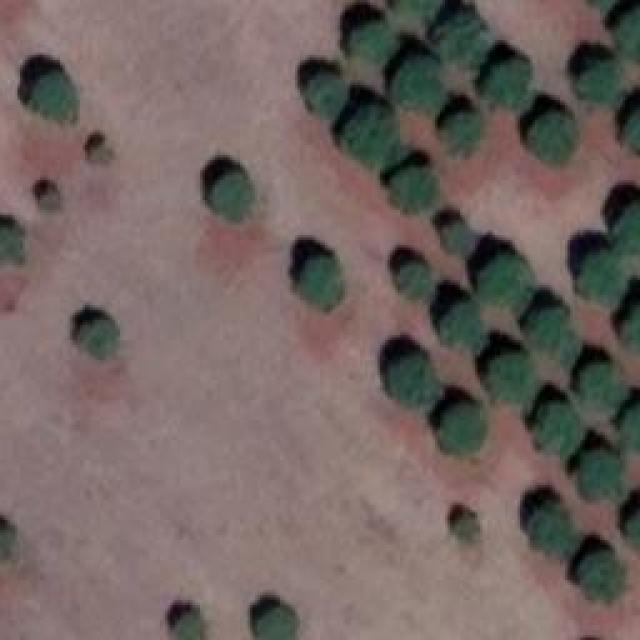Tree: (343, 98, 398, 161), (385, 353, 438, 413), (530, 105, 578, 170), (393, 50, 438, 110), (523, 498, 568, 558), (430, 5, 480, 58), (390, 158, 438, 213), (575, 550, 623, 605), (298, 252, 343, 310), (482, 250, 530, 303), (437, 400, 485, 453), (487, 345, 535, 398), (483, 55, 533, 105), (30, 65, 75, 118), (345, 12, 393, 60), (578, 253, 623, 303), (438, 300, 483, 348), (525, 302, 570, 350), (210, 170, 253, 218), (538, 405, 581, 453), (580, 448, 618, 501), (583, 363, 623, 406), (302, 68, 340, 113), (582, 58, 620, 103), (258, 602, 301, 640), (80, 315, 118, 355), (393, 257, 433, 295), (445, 110, 480, 150), (615, 205, 640, 255), (620, 8, 640, 63), (173, 610, 206, 640), (622, 405, 640, 458), (622, 105, 640, 153), (445, 223, 473, 253), (0, 227, 22, 264), (625, 505, 640, 555), (455, 513, 480, 543), (0, 525, 18, 563), (43, 190, 66, 213), (95, 147, 110, 165)
